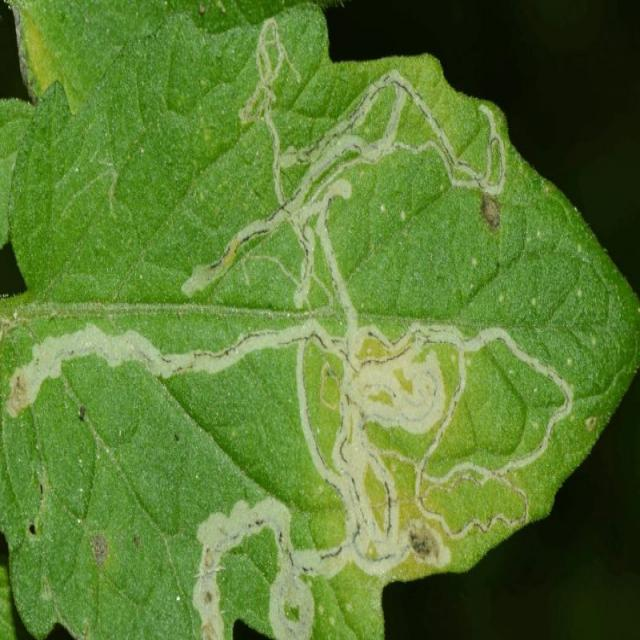Serpentine leafminer: (5, 0, 584, 640)
